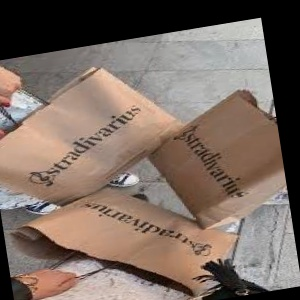stradivarius: (75, 146, 293, 263), (184, 155, 275, 300), (83, 79, 232, 140)
